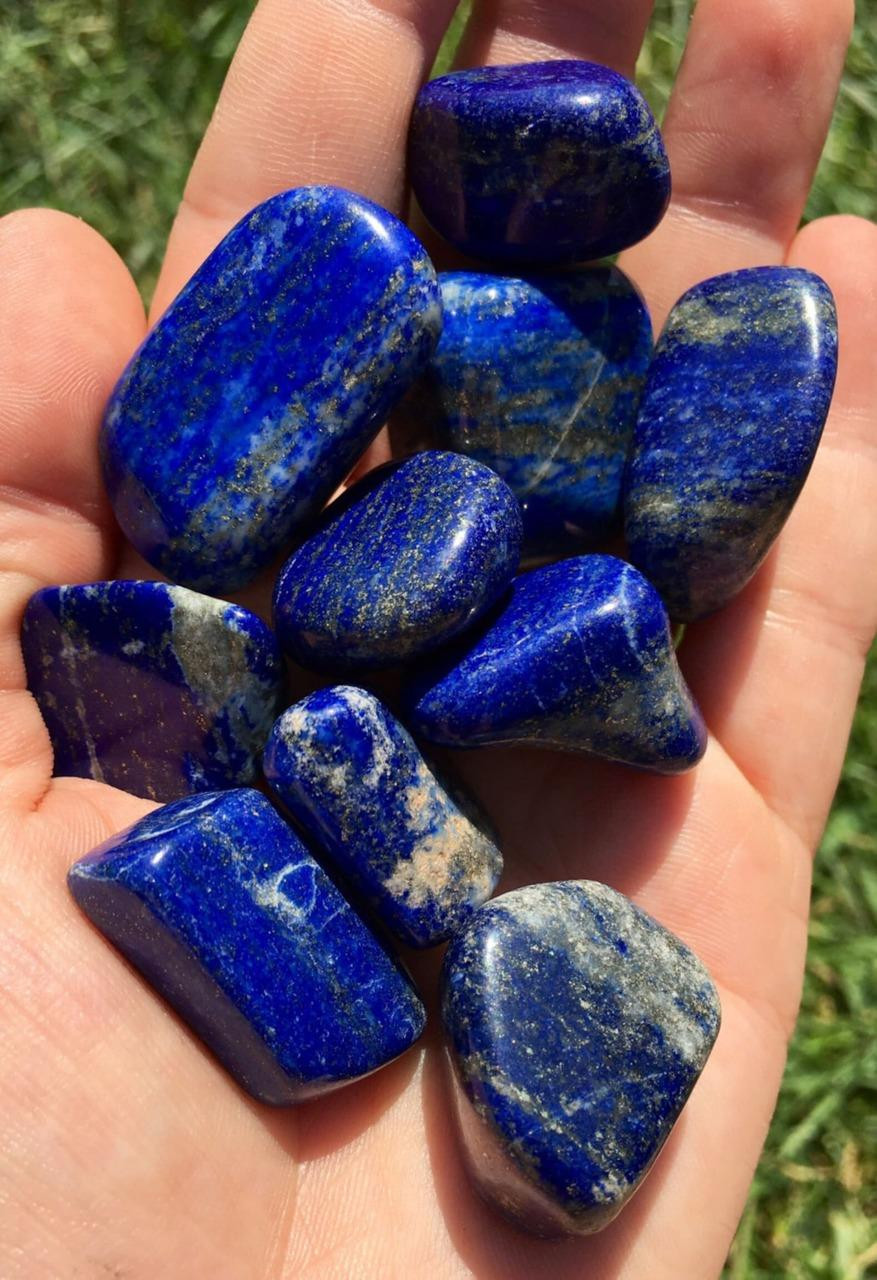Lapis_Lazuli: (92, 191, 440, 569), (44, 789, 428, 1116), (443, 879, 731, 1251), (629, 269, 845, 608), (389, 60, 687, 276), (423, 556, 714, 767), (7, 576, 276, 784)
